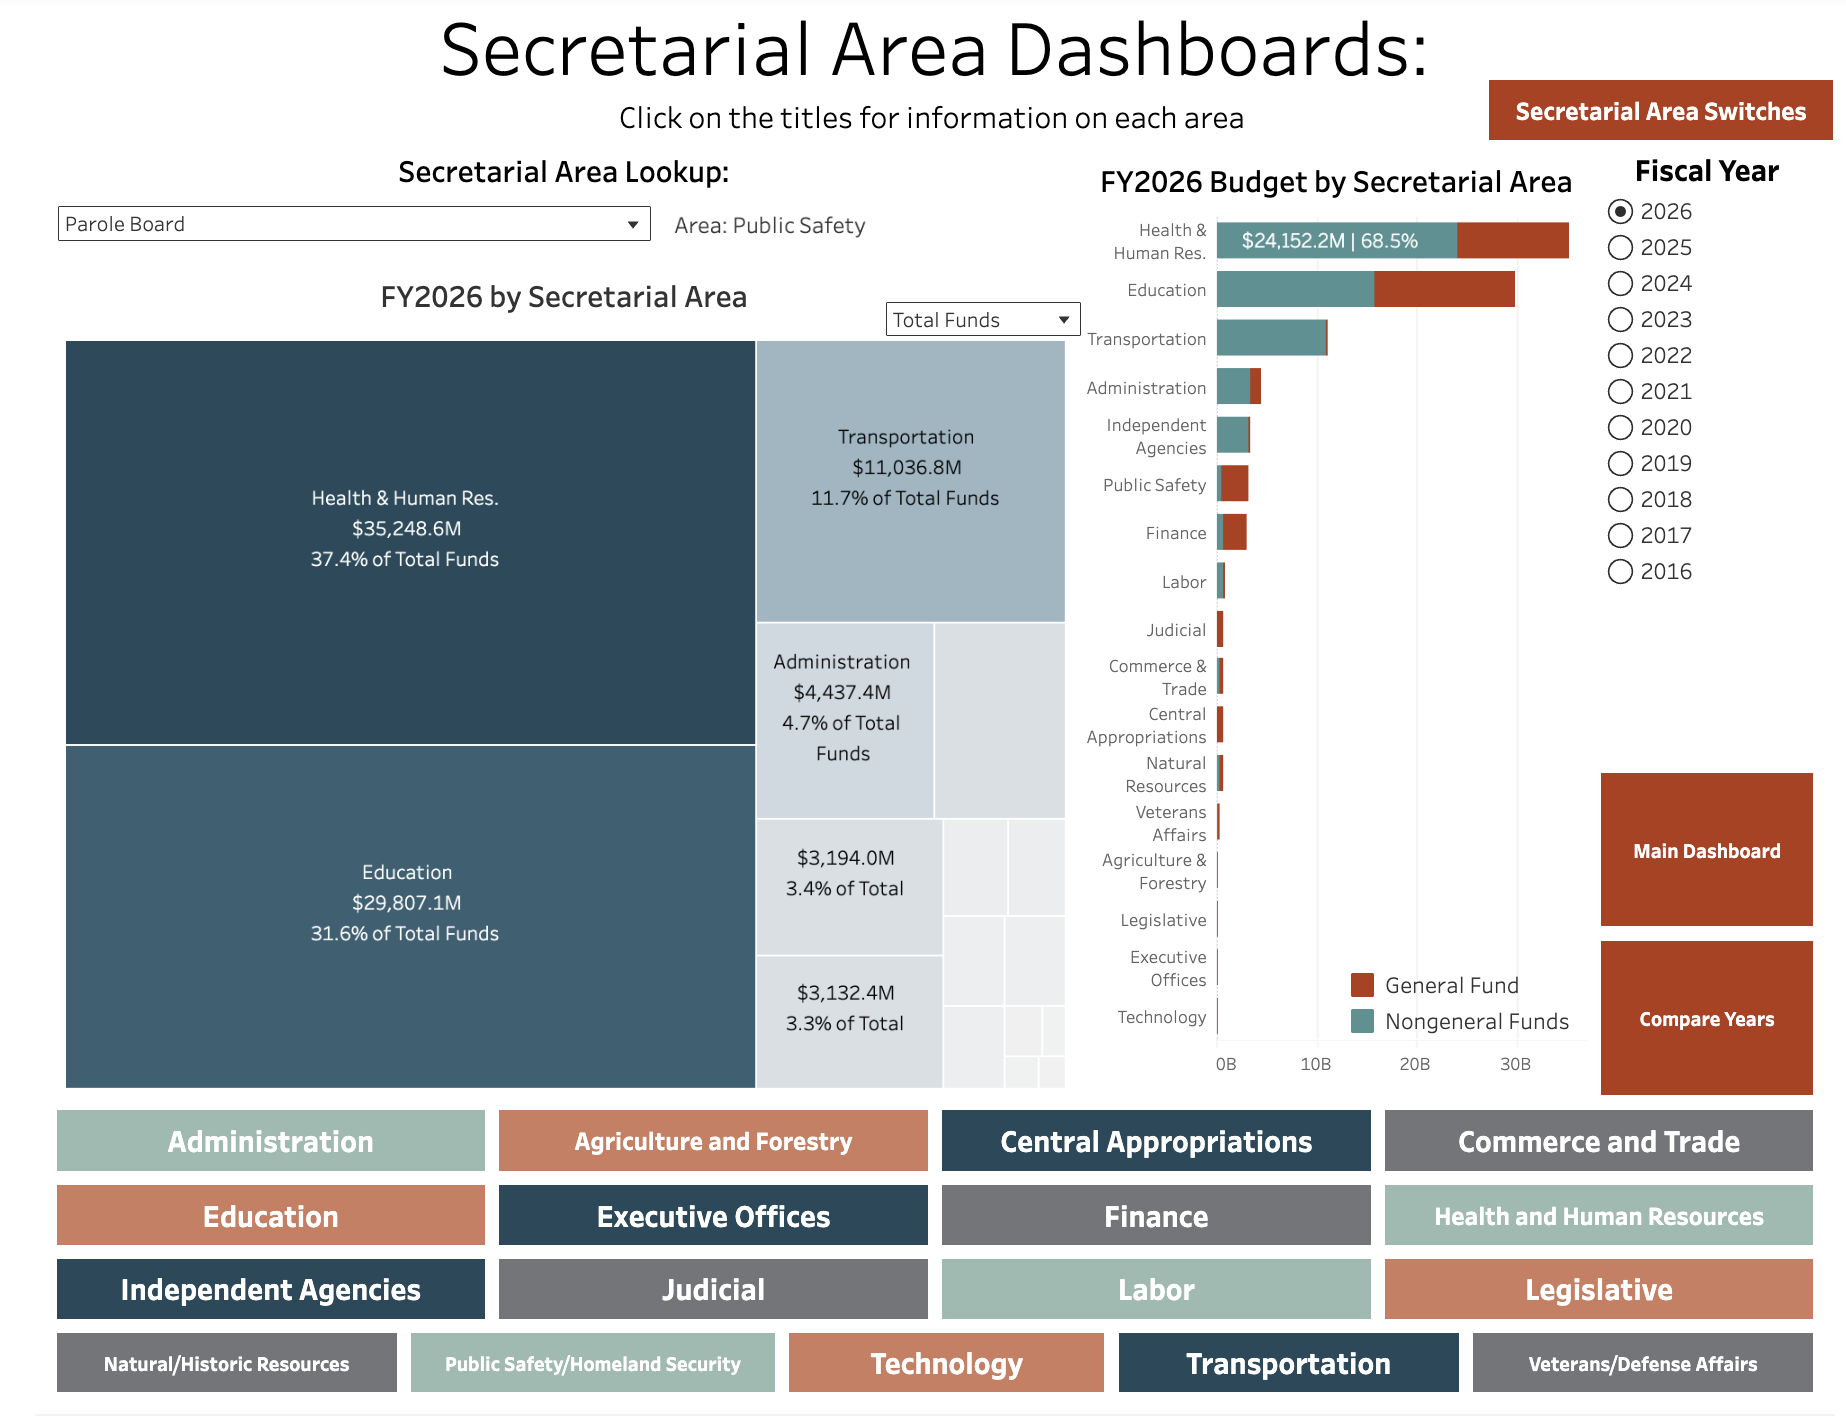

This screenshot's page, from the dashboard's own definition file:
{"tool":"tableau","page":{"name":"0-Sec Area Base","canvas":[1000,800],"ordinal":2},"visuals":[{"type":"text","box":[8,8,984,85]},{"type":"dashboard-object","box":[808,59,191,33]},{"type":"text","box":[8,93,572,32]},{"type":"worksheet","title":"0-budget by area","mark":"Bar","rows":["SecretarialAreaTitle"],"cols":["amount"],"box":[580,93,286,534]},{"type":"filter","title":"0-circle starter","param":"[federated.18afs64033ojim1fb0nl21qirvqy].[none:Year (copy)_1231459209961483:ok]","box":[866,93,126,347]},{"type":"filter","title":"0- Agency Title Lookup","param":"[federated.18afs64033ojim1fb0nl21qirvqy].[none:AgencyTitle:nk]","box":[8,125,339,32]},{"type":"worksheet","title":"0- Agency Title Lookup","mark":"Automatic","box":[347,125,233,32]},{"type":"worksheet","title":"0-circle starter","mark":"Automatic","box":[8,157,572,470]},{"type":"filter","title":"0-circle starter","param":"[federated.18afs64033ojim1fb0nl21qirvqy].[none:type:nk]","box":[472,182,110,21]},{"type":"dashboard-object","box":[866,440,126,93]},{"type":"dashboard-object","box":[866,533,126,94]},{"type":"legend","title":"0-budget by area","param":"[federated.18afs64033ojim1fb0nl21qirvqy].[none:type:nk]","box":[728,552,140,42]},{"type":"dashboard-object","box":[8,627,246,42]},{"type":"dashboard-object","box":[254,627,246,42]},{"type":"dashboard-object","box":[500,627,246,42]},{"type":"dashboard-object","box":[746,627,246,42]},{"type":"dashboard-object","box":[8,669,246,41]},{"type":"dashboard-object","box":[254,669,246,41]},{"type":"dashboard-object","box":[500,669,246,41]},{"type":"dashboard-object","box":[746,669,246,41]},{"type":"dashboard-object","box":[8,710,246,41]},{"type":"dashboard-object","box":[254,710,246,41]},{"type":"dashboard-object","box":[500,710,246,41]},{"type":"dashboard-object","box":[746,710,246,41]},{"type":"dashboard-object","box":[8,751,197,41]},{"type":"dashboard-object","box":[205,751,210,41]},{"type":"dashboard-object","box":[415,751,183,41]},{"type":"dashboard-object","box":[598,751,197,41]},{"type":"dashboard-object","box":[795,751,197,41]}]}

Visuals, with their boxes on the page's 1000x800 design canvas (x1, y1, x2, y2). These are canvas units, not pixel positions in the 1846x1416 screenshot, which may show the page scaled, cropped or inside an application window:
text: locate(8, 8, 992, 93)
dashboard-object: locate(808, 59, 999, 92)
text: locate(8, 93, 580, 125)
"0-budget by area" worksheet (Bar marks): locate(580, 93, 866, 627)
"0-circle starter" filter: locate(866, 93, 992, 440)
"0- Agency Title Lookup" filter: locate(8, 125, 347, 157)
"0- Agency Title Lookup" worksheet: locate(347, 125, 580, 157)
"0-circle starter" worksheet: locate(8, 157, 580, 627)
"0-circle starter" filter: locate(472, 182, 582, 203)
dashboard-object: locate(866, 440, 992, 533)
dashboard-object: locate(866, 533, 992, 627)
"0-budget by area" legend: locate(728, 552, 868, 594)
dashboard-object: locate(8, 627, 254, 669)
dashboard-object: locate(254, 627, 500, 669)
dashboard-object: locate(500, 627, 746, 669)
dashboard-object: locate(746, 627, 992, 669)
dashboard-object: locate(8, 669, 254, 710)
dashboard-object: locate(254, 669, 500, 710)
dashboard-object: locate(500, 669, 746, 710)
dashboard-object: locate(746, 669, 992, 710)
dashboard-object: locate(8, 710, 254, 751)
dashboard-object: locate(254, 710, 500, 751)
dashboard-object: locate(500, 710, 746, 751)
dashboard-object: locate(746, 710, 992, 751)
dashboard-object: locate(8, 751, 205, 792)
dashboard-object: locate(205, 751, 415, 792)
dashboard-object: locate(415, 751, 598, 792)
dashboard-object: locate(598, 751, 795, 792)
dashboard-object: locate(795, 751, 992, 792)
